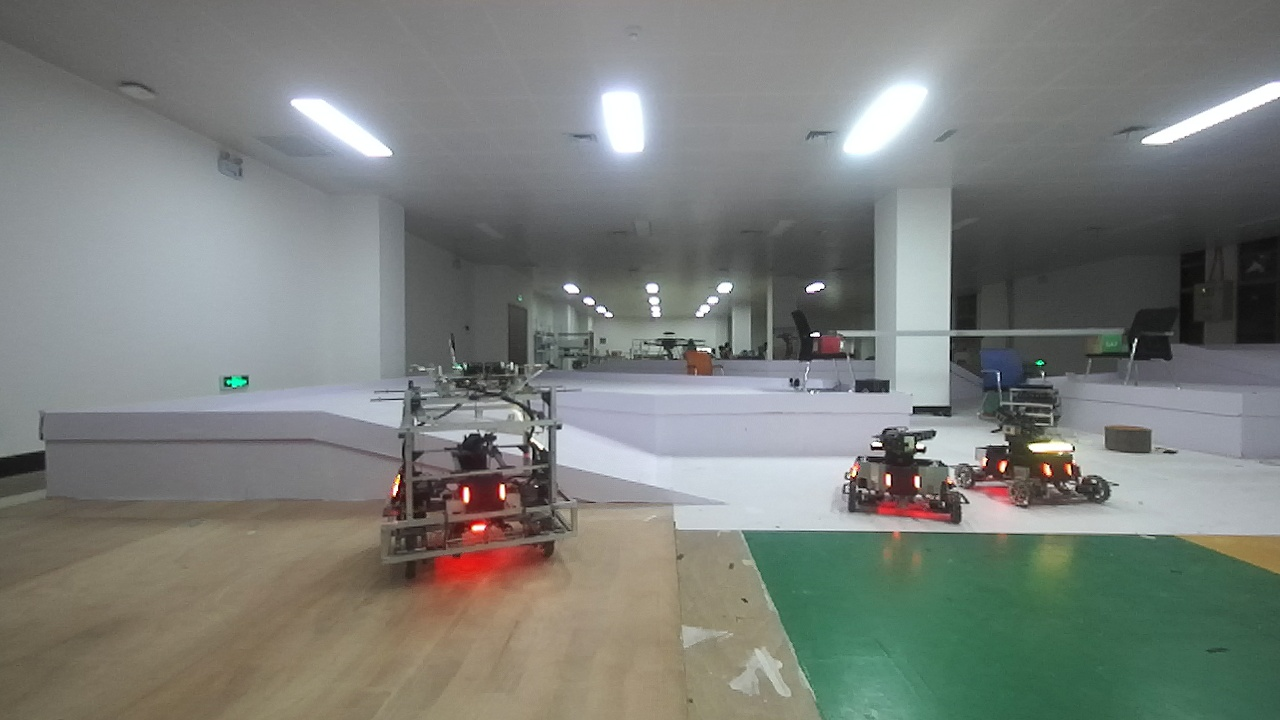car: (374, 366, 587, 605), (960, 402, 1128, 527), (832, 418, 972, 535)
